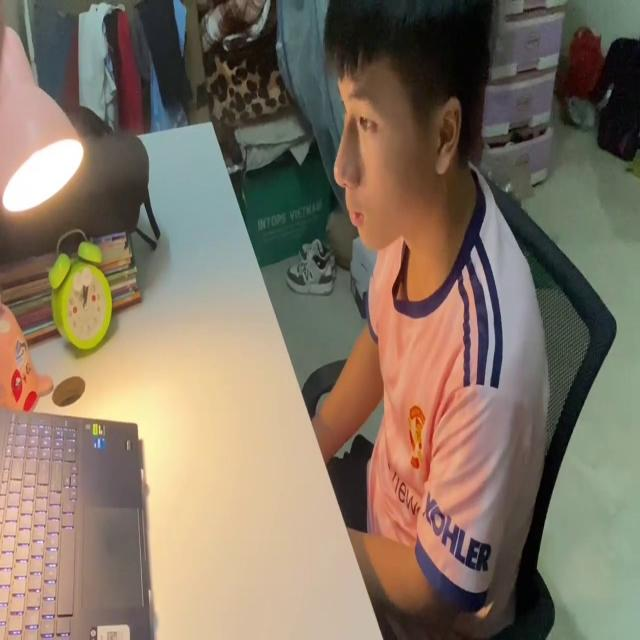laptop: (0, 395, 155, 640)
student: (314, 0, 548, 640)
